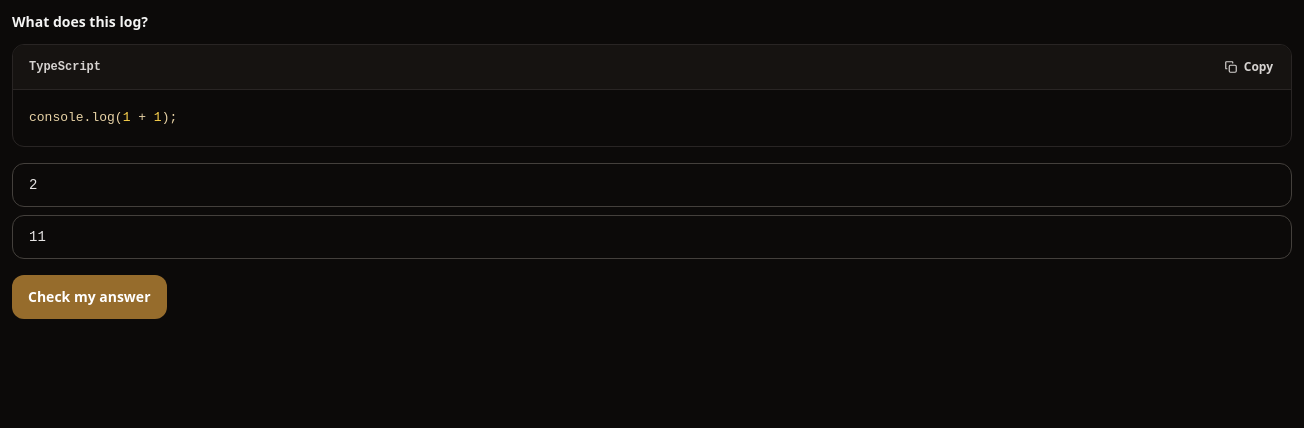
it: PredictOutputComponent › says Correct for the right answer and explains why
Click the radio button with test id "predict-option-a".
click(33, 185)  # box [12,163,1292,207]
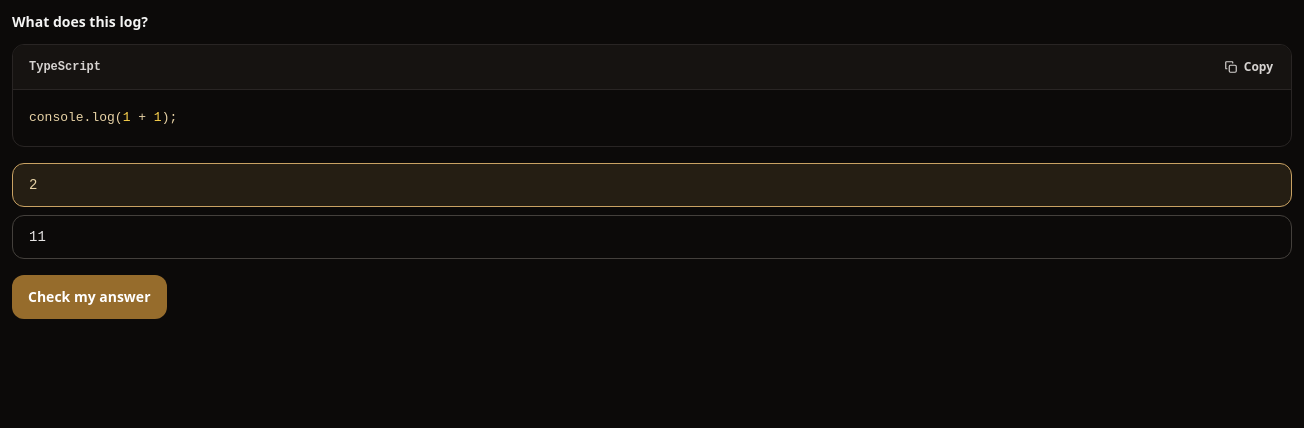
Click the button "Check my answer".
click(89, 297)  # box [12,275,166,319]
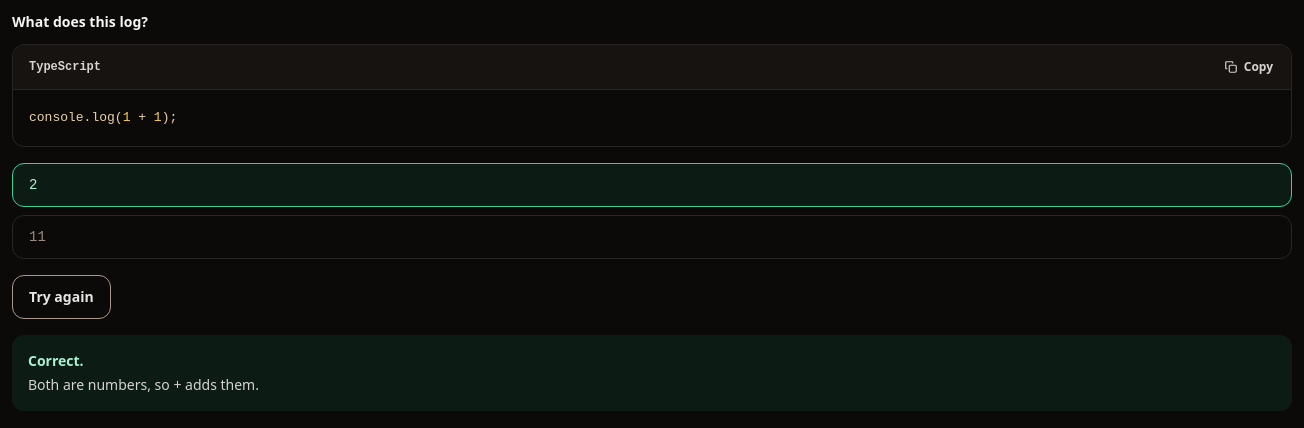
Result: the message with test id "predict-result" shows "Correct." at [28,351,84,370]
Result: the message with test id "predict-result" shows "Both are numbers" at [28,375,259,394]
